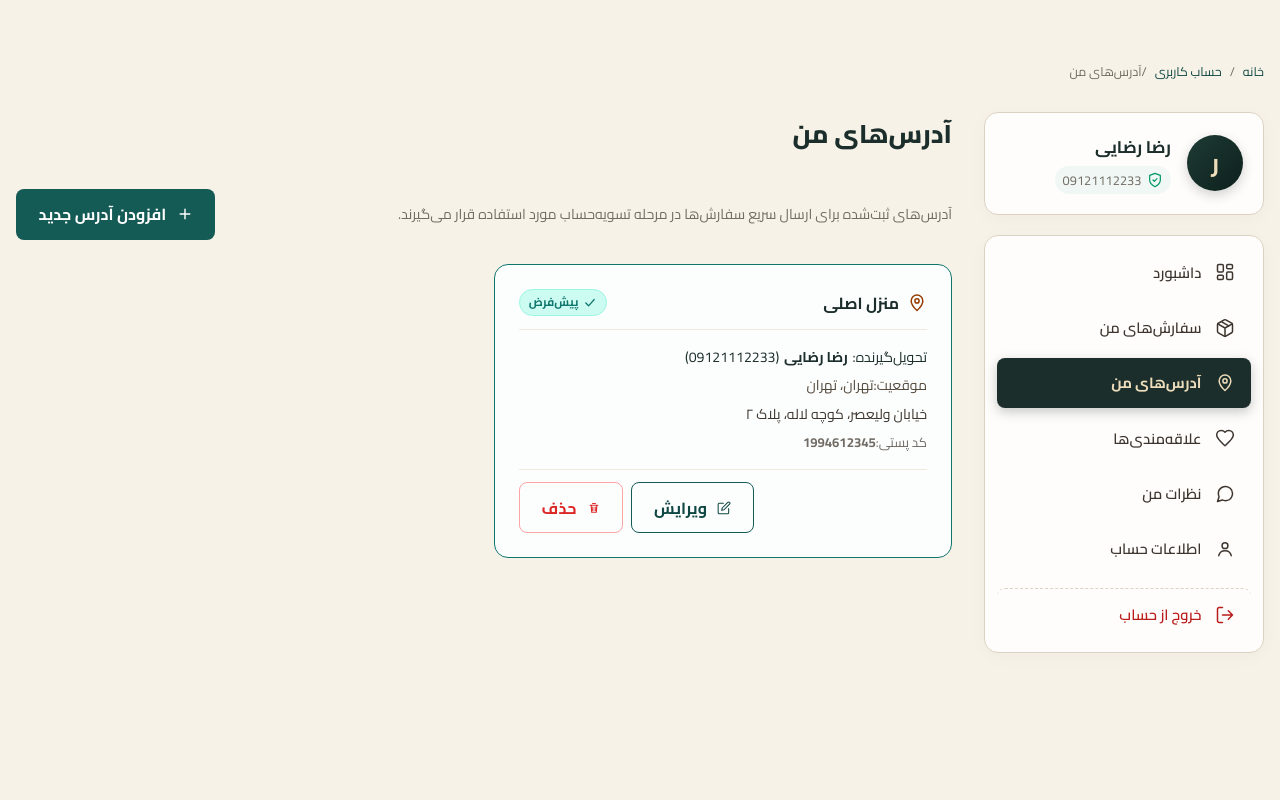
it: AccountAddressesClient › opens add address modal when clicking add button
Check: the text "منزل اصلی" is shown, box [823, 289, 899, 317]
Step 1. Click the button "افزودن آدرس جدید" → point(116, 214), box [16, 189, 215, 240]
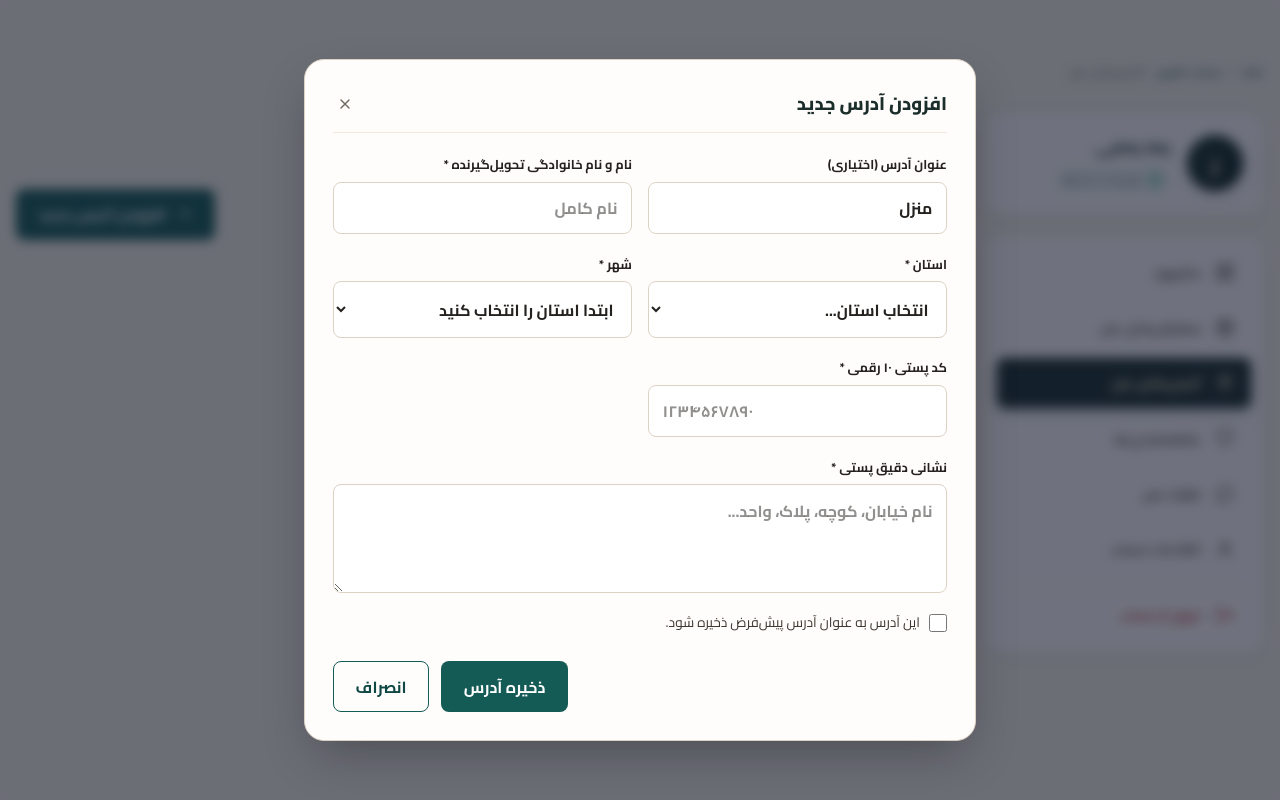
Check: the field with placeholder "مثلاً: منزل، محل کار" is shown, box [648, 182, 947, 234]
